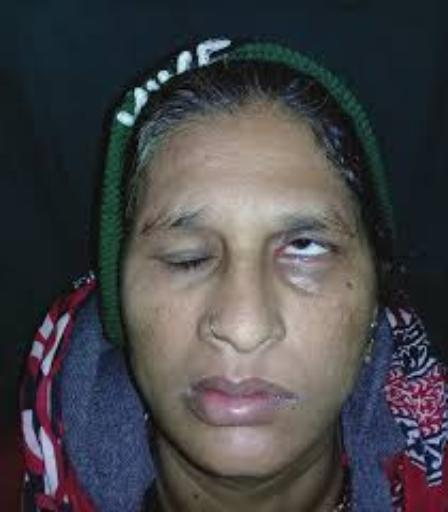left_eye: (276, 235, 343, 264)
left_lip_corner: (282, 382, 310, 409)
right_eye: (155, 253, 217, 279)
right_lip_corner: (178, 375, 212, 401)
